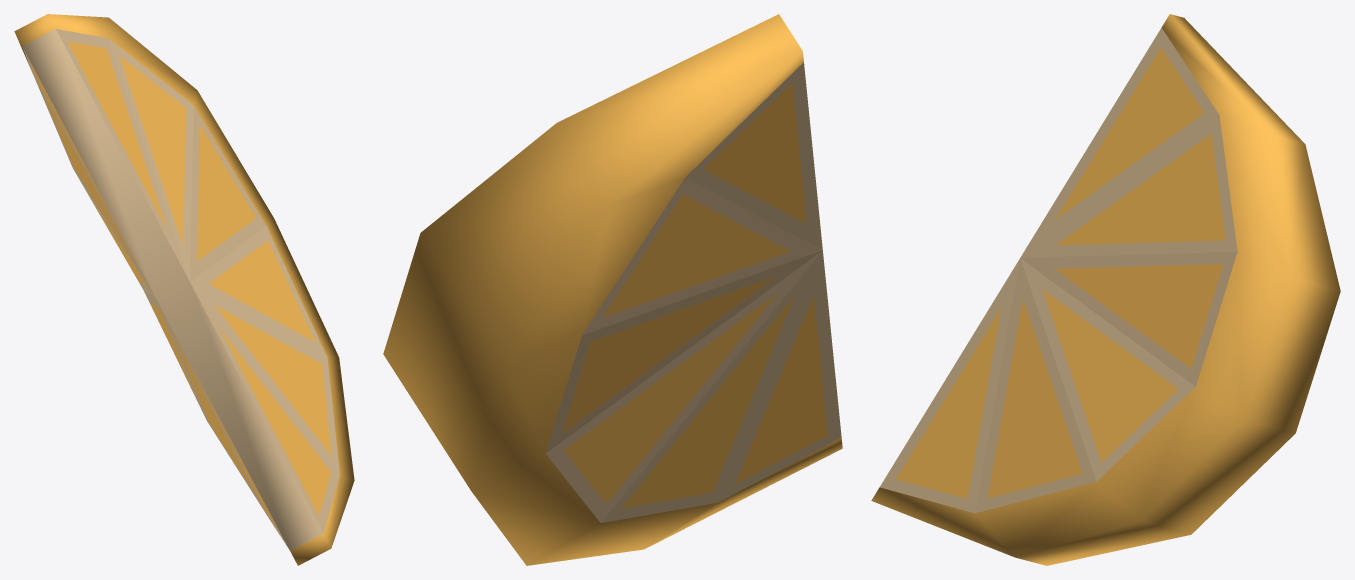
The model's file is Good Food 2.fbx.
3 renders of one model, left to right at view 1: azimuth 30°, elevation 25°; view 2: azimuth 150°, elevation 25°; view 3: azimuth 270°, elevation 25°, orthographic. The views are drawn at different scales.
Parts seen in each view (by area): view 1: Good Food_002; view 2: Good Food_002; view 3: Good Food_002.
Boxes of the visible parts, <box> form: Good Food_002: <box>14,14,354,565</box>; Good Food_002: <box>383,14,842,565</box>; Good Food_002: <box>871,14,1340,565</box>.
Size of the model in its own units: 14.06 by 22.24 by 19.96.
